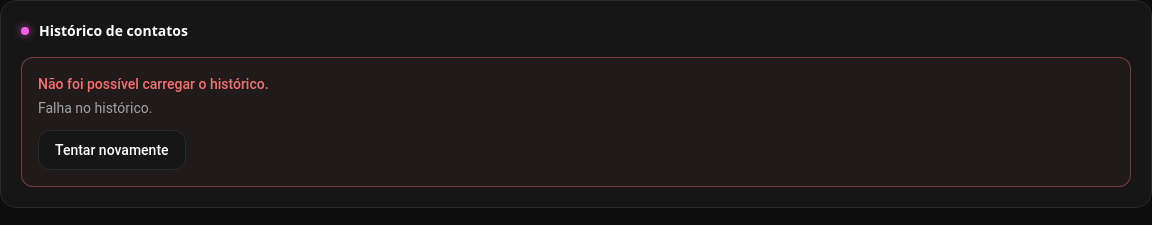
Test case: LeadTimeline › mostra erro e permite repetir a leitura
Expected: the message shows "Falha no histórico.", [38,100,152,116]
Click the button "Tentar novamente": (112, 150) [38,130,186,170]
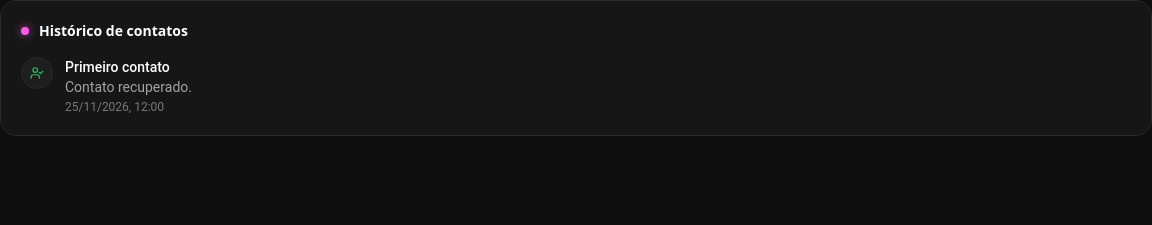
Result: the text "Contato recuperado." is shown at [65,77,192,97]
